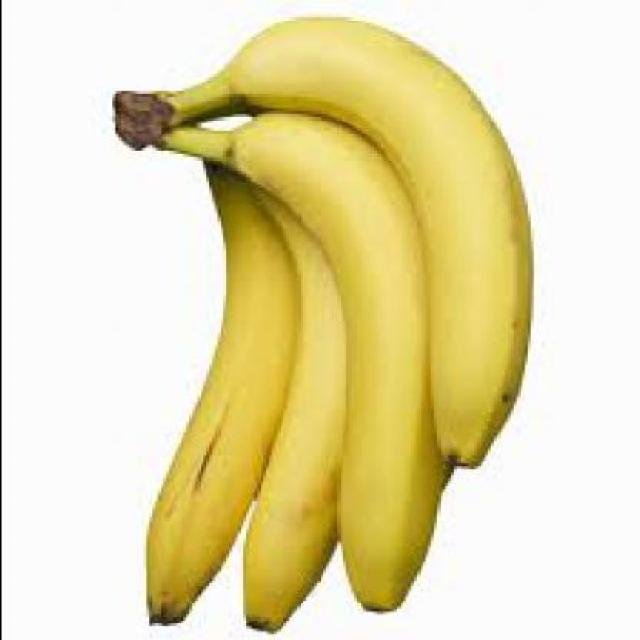BIODEGRADABLE: (139, 17, 524, 463), (151, 111, 458, 609), (140, 145, 275, 620), (239, 159, 341, 635)
